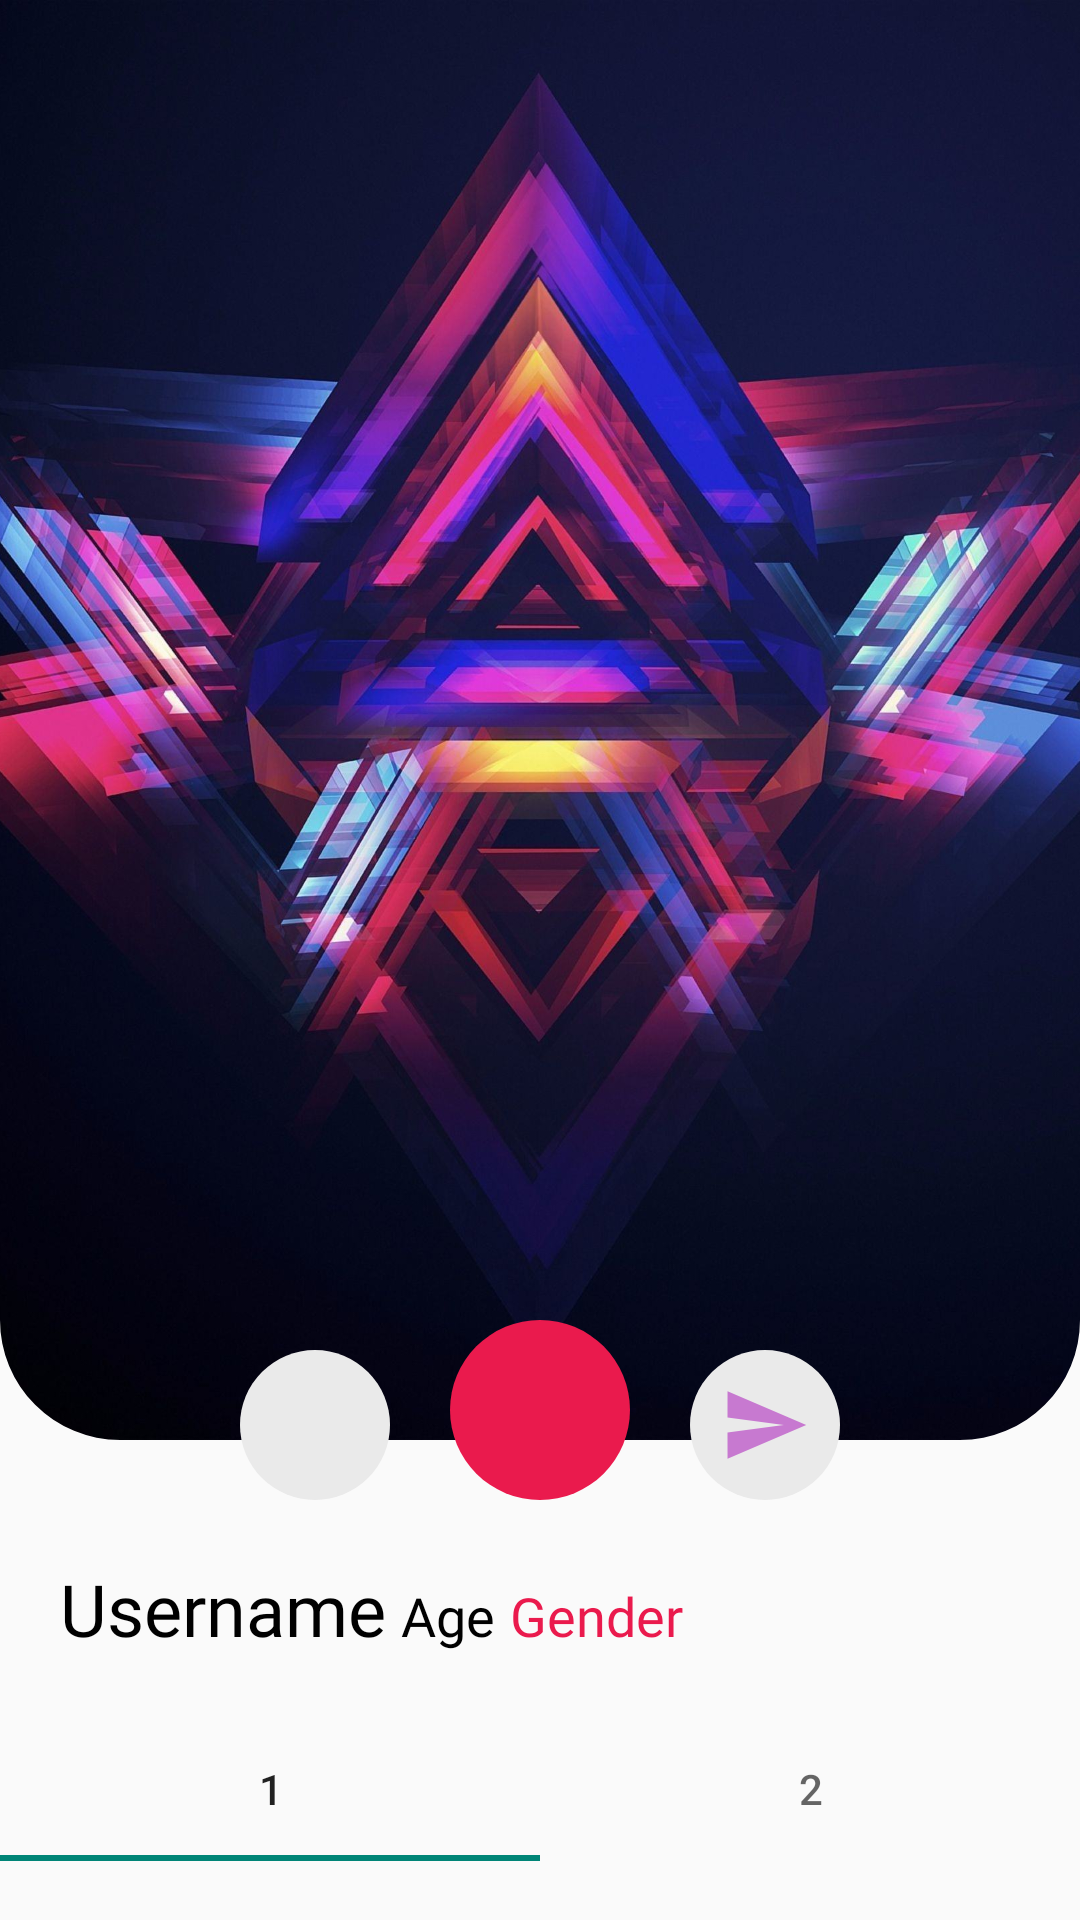

Screen size 1080×1920. Icon name, then its center in pixels as (x=x, y=y):
send: (x=765, y=1425)
